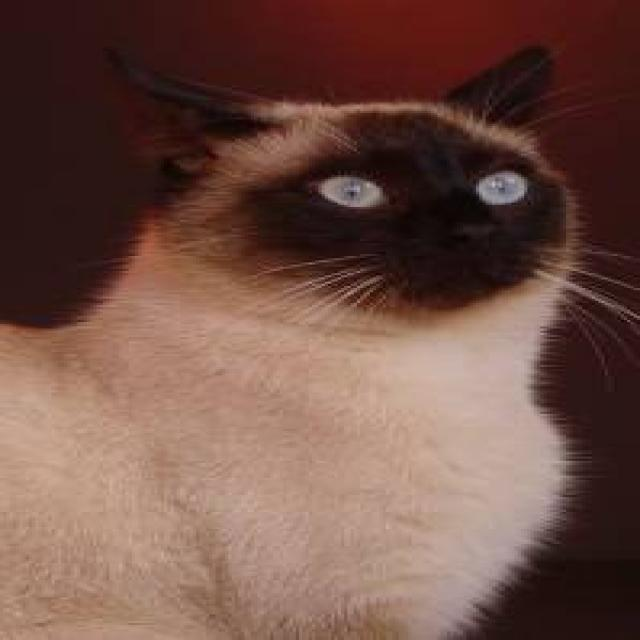Siamese: (79, 36, 631, 328)
